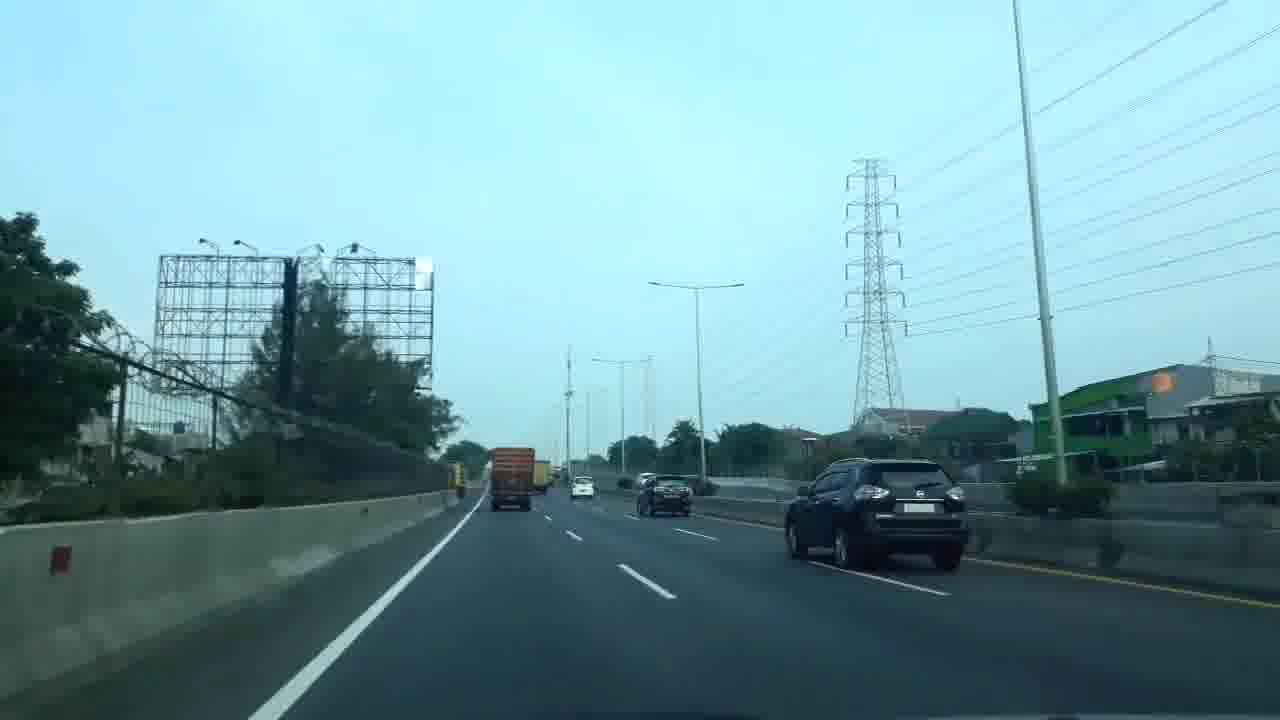plate_positive: (903, 502, 935, 513)
